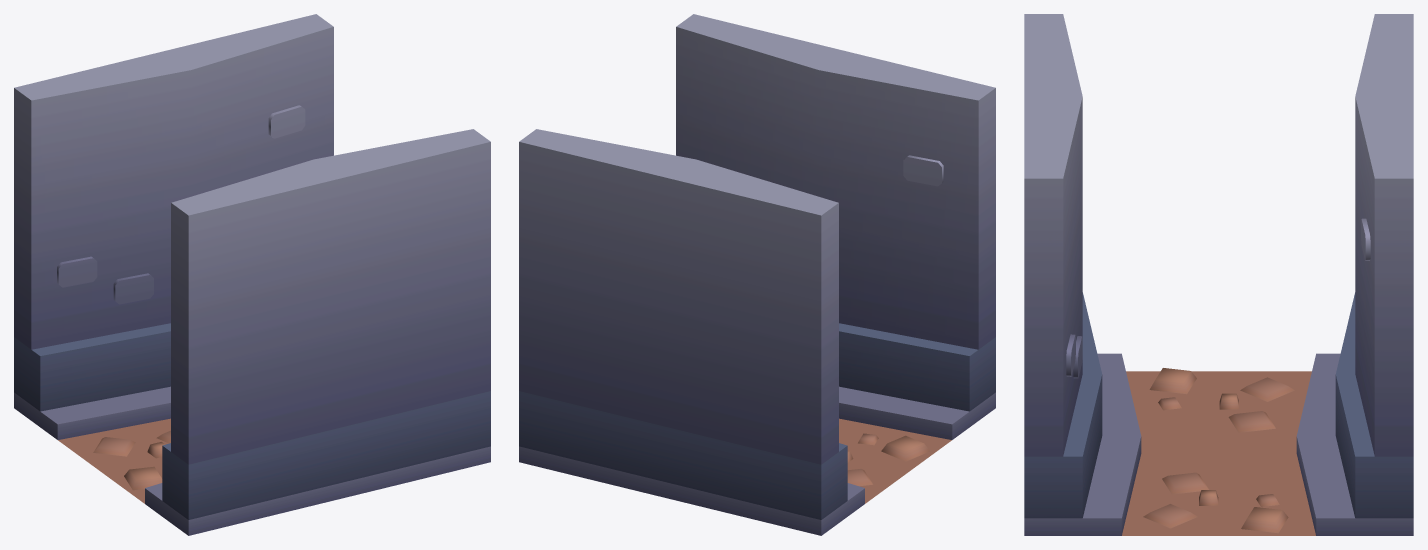
Rendered from corridor.glb.
3 views of the same model, side by side, from view 1: azimuth 30°, elevation 25°; view 2: azimuth 150°, elevation 25°; view 3: azimuth 270°, elevation 25° (orthographic). The views are drawn at different scales.
Visible parts, largest first — view 1: corridor4; view 2: corridor4; view 3: corridor4.
Boxes of the visible parts, <box> form: corridor4: <box>14,14,490,535</box>; corridor4: <box>519,14,995,535</box>; corridor4: <box>1024,14,1413,535</box>.
Size of the model in its own units: 4 by 4.05 by 4.
Materials: 1 (1 with a texture image).
